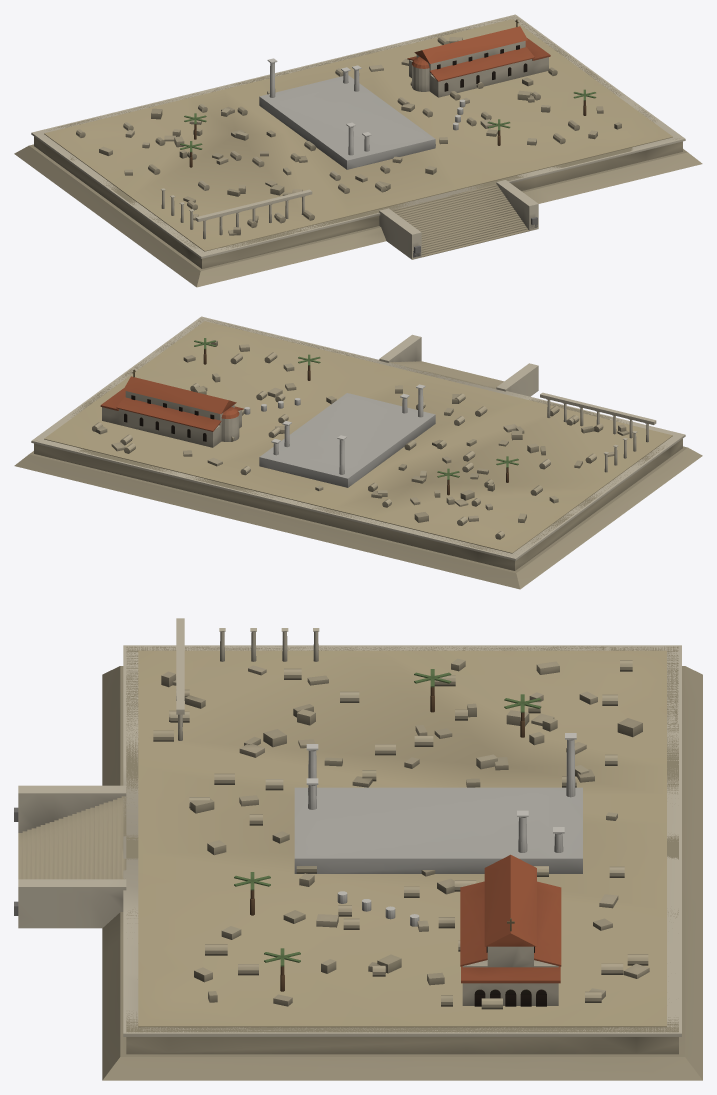
The model's file is serapeum-ruin.glb.
The picture shows the model from 3 angles, top to bottom: view 1: azimuth 30°, elevation 25°; view 2: azimuth 150°, elevation 25°; view 3: azimuth 270°, elevation 25°; orthographic projection. The views are drawn at different scales.
Parts seen in each view (by area): view 1: p1_ruins, p0_platform, p2_trees; view 2: p1_ruins, p0_platform, p2_trees; view 3: p1_ruins, p0_platform, p2_trees.
Boxes of the visible parts, x1,y1,x2,y2 form: p1_ruins: (44, 19, 672, 251); p0_platform: (14, 14, 702, 287); p2_trees: (180, 19, 596, 157); p1_ruins: (44, 321, 672, 553); p0_platform: (14, 316, 702, 589); p2_trees: (100, 338, 518, 485); p1_ruins: (138, 618, 666, 1027); p0_platform: (14, 645, 702, 1080); p2_trees: (234, 669, 561, 1006).
Bounding box in the file's own units: 160 × 21 × 115.
